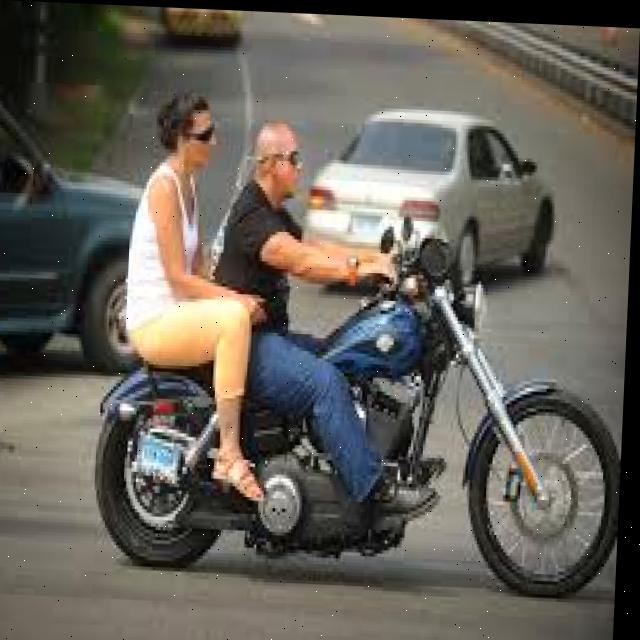without helmet: (148, 87, 221, 190), (243, 107, 314, 206)
